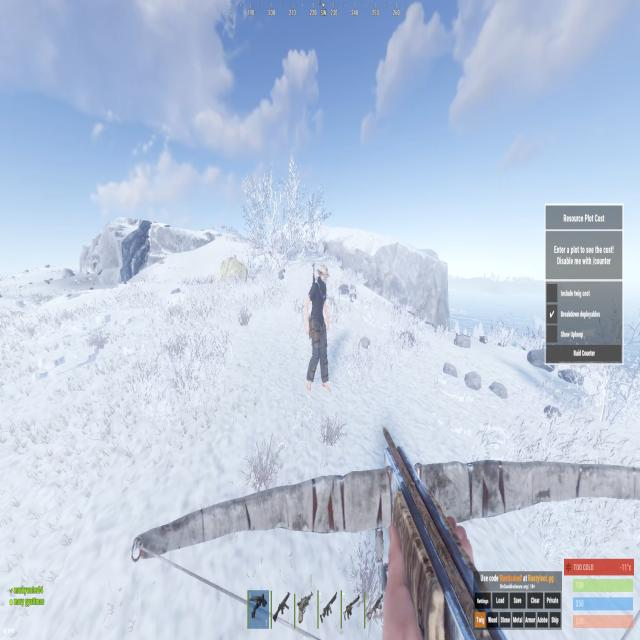Player: (305, 262, 332, 396)
